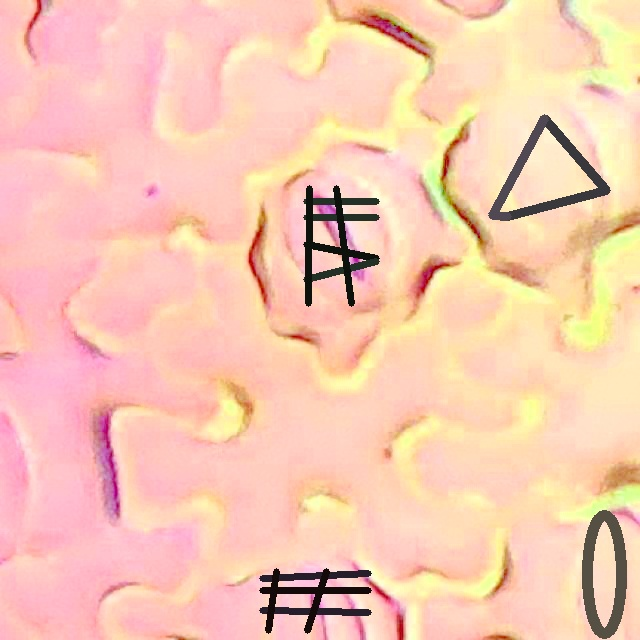close: (489, 115, 609, 219), (582, 510, 627, 639)
open: (303, 185, 379, 306), (259, 568, 371, 633)
